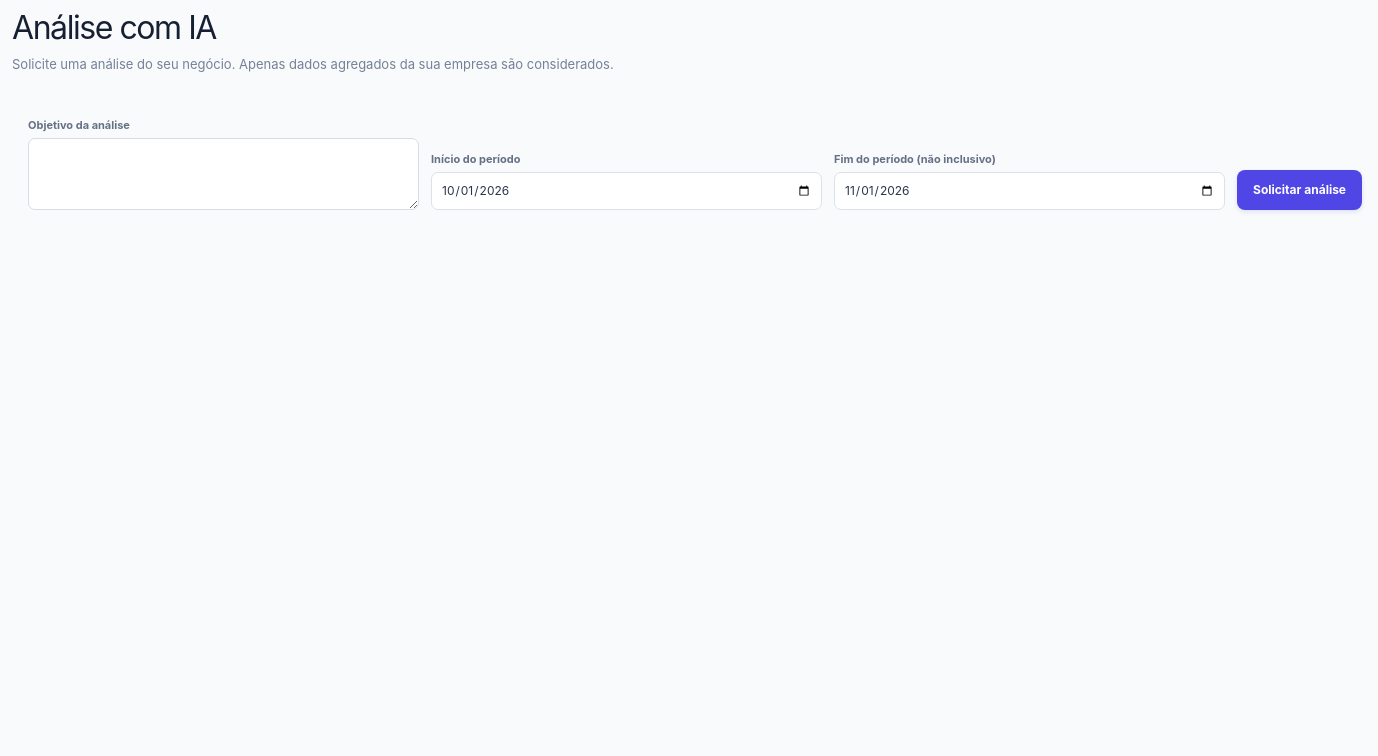
Backoffice AIAnalysisPage › displays the validated report, unavailable metrics, and navigable sources
In the text box labelled "Objetivo da análise": (224,174) left=28, top=138, right=419, bottom=210, type "Entender o desempenho de vendas"
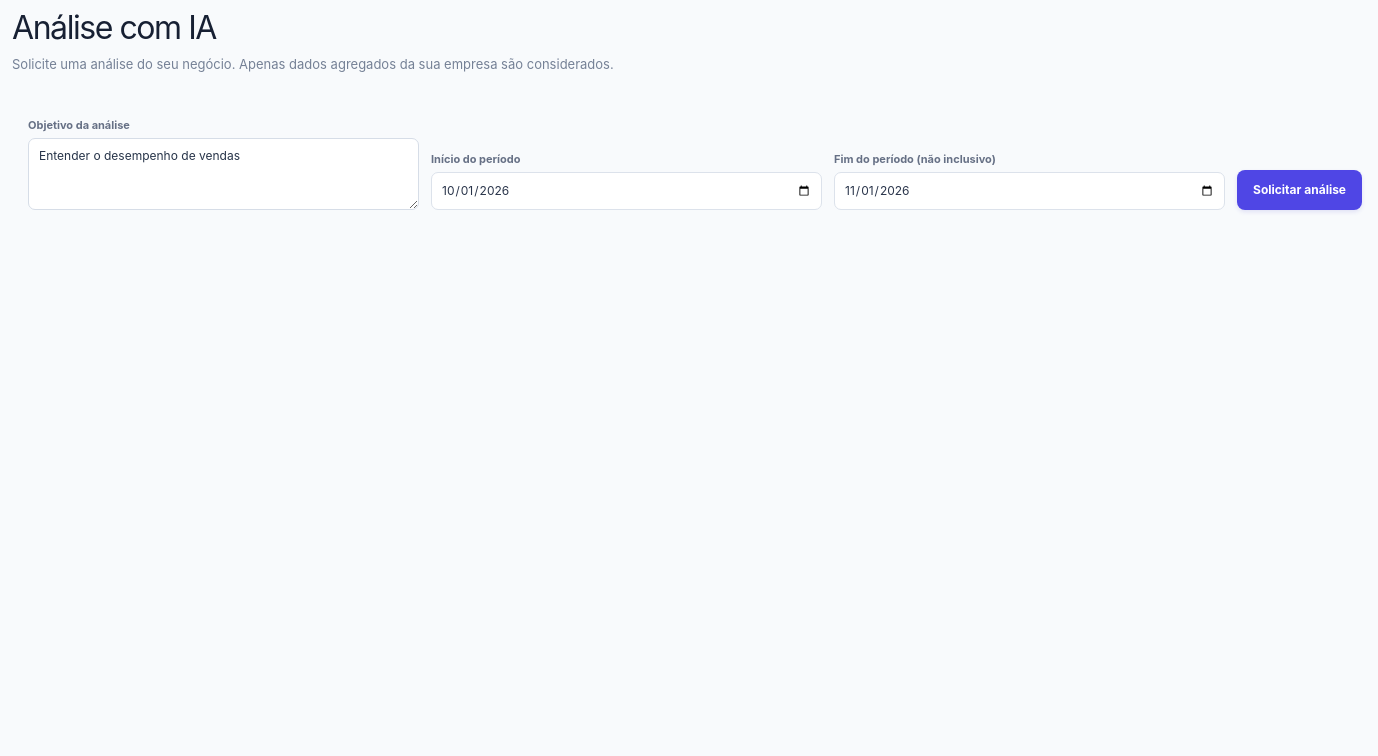
In the date field labelled "Início do período": (626,191) left=431, top=172, right=822, bottom=210, type "2030-02-01"
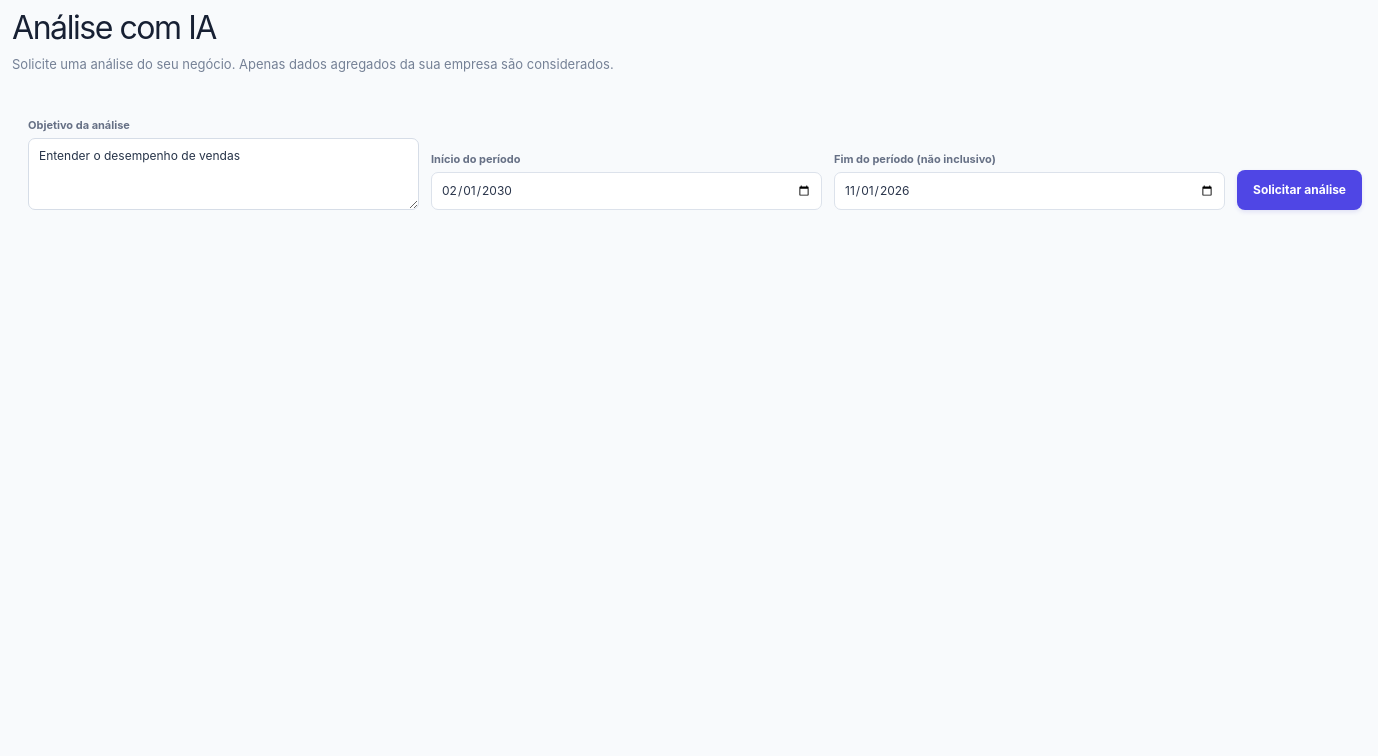
In the date field labelled "Fim do período (não inclusivo)": (1030,191) left=834, top=172, right=1225, bottom=210, type "2030-03-01"
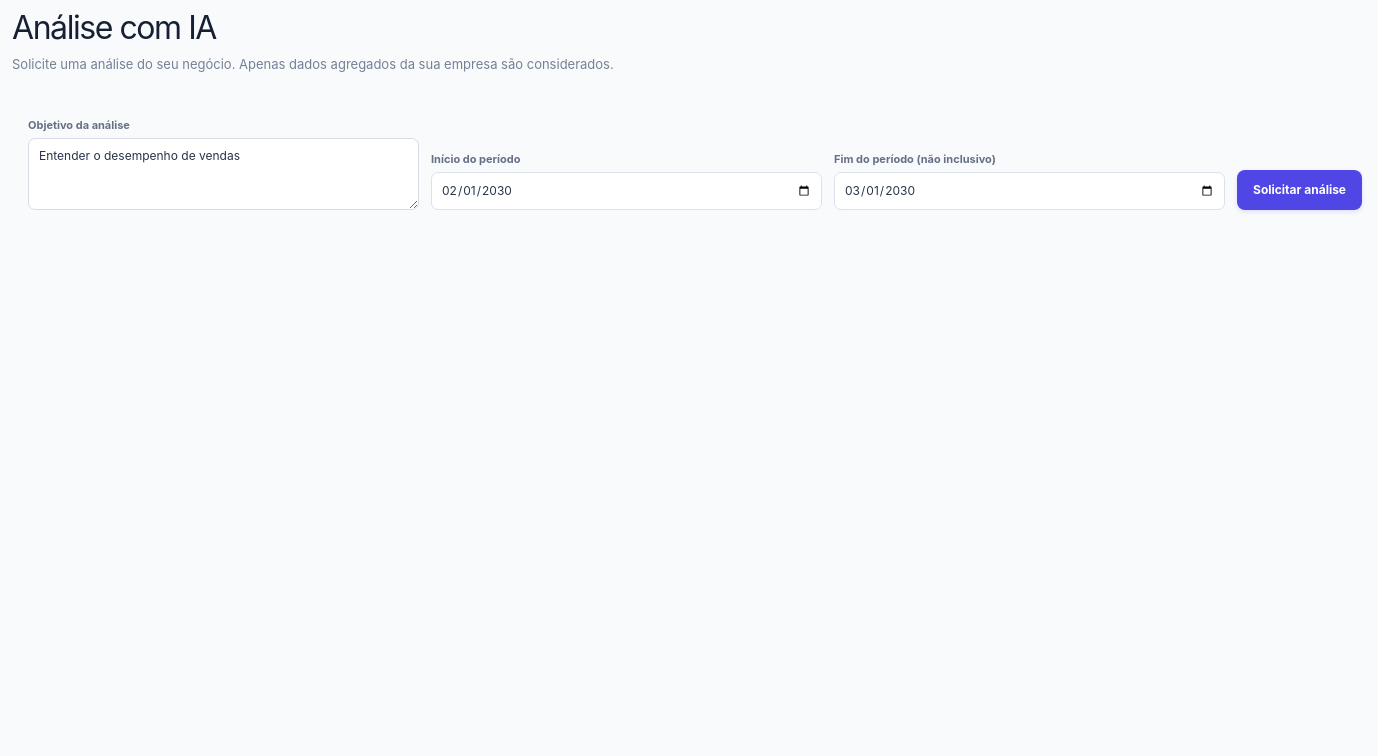
Click the button "Solicitar análise": (1300,190) left=1237, top=170, right=1362, bottom=210
(page scrolled)
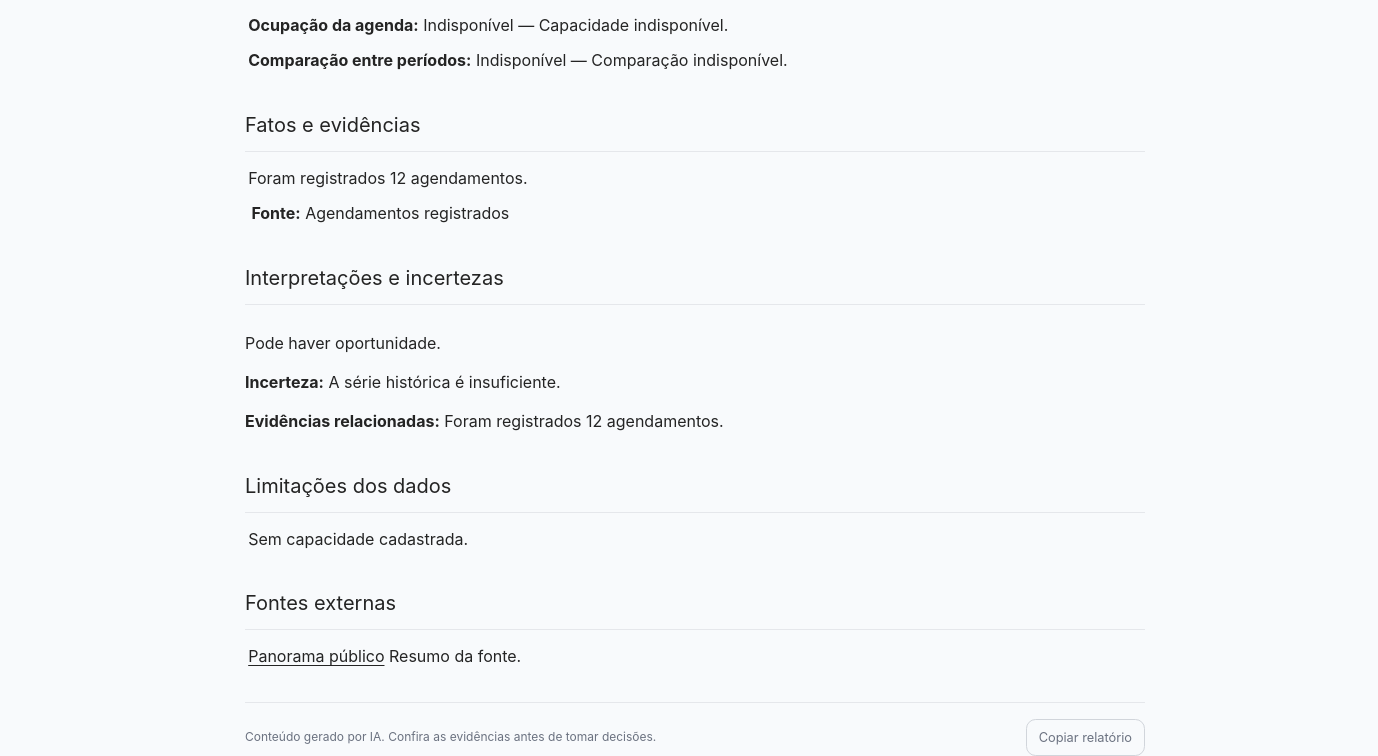
Check: the list item "Ocupação da agenda: Indisponível — Capacidade indisponível." is shown, box left=248, top=14, right=728, bottom=34
